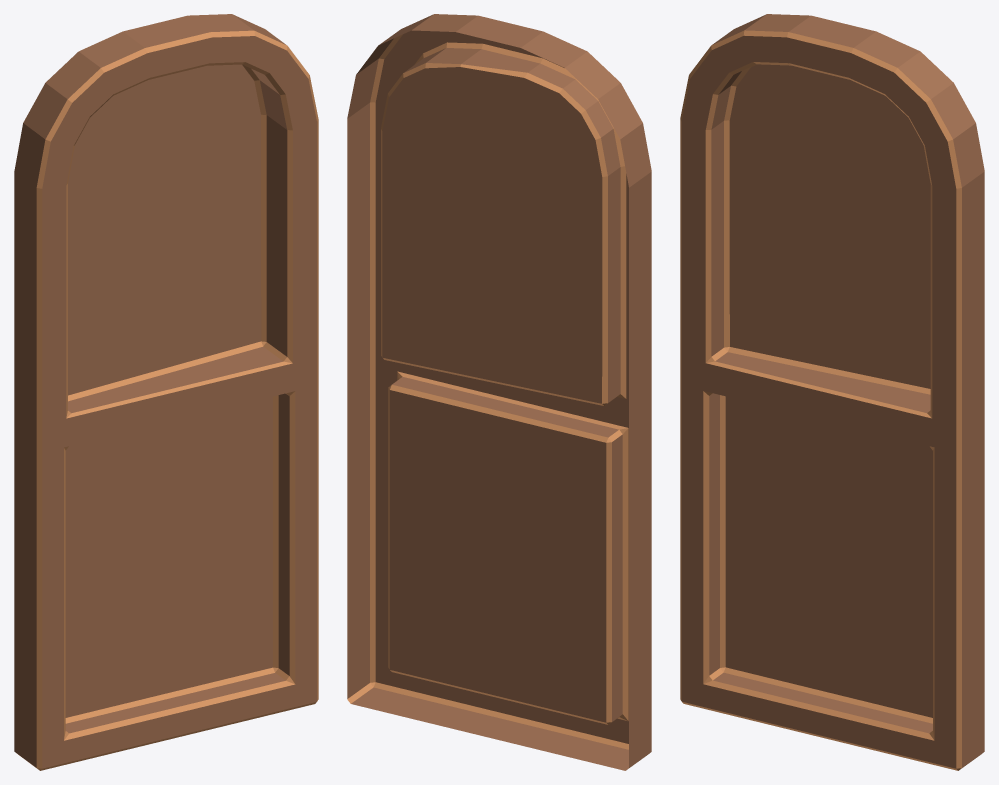
Rendered from Outpost_Door.fbx.
The picture shows the model from 3 angles, left to right: view 1: azimuth 30°, elevation 25°; view 2: azimuth 150°, elevation 25°; view 3: azimuth 330°, elevation 25°; orthographic projection.
Parts seen in each view (by area): view 1: Outpost Door; view 2: Outpost Door; view 3: Outpost Door.
Part boxes in pixels (x1=…): Outpost Door: x1=14, y1=14, x2=318, y2=770; Outpost Door: x1=347, y1=14, x2=651, y2=770; Outpost Door: x1=680, y1=14, x2=984, y2=770.
Size of the model in its own units: 79.03 by 187 by 11.99.
